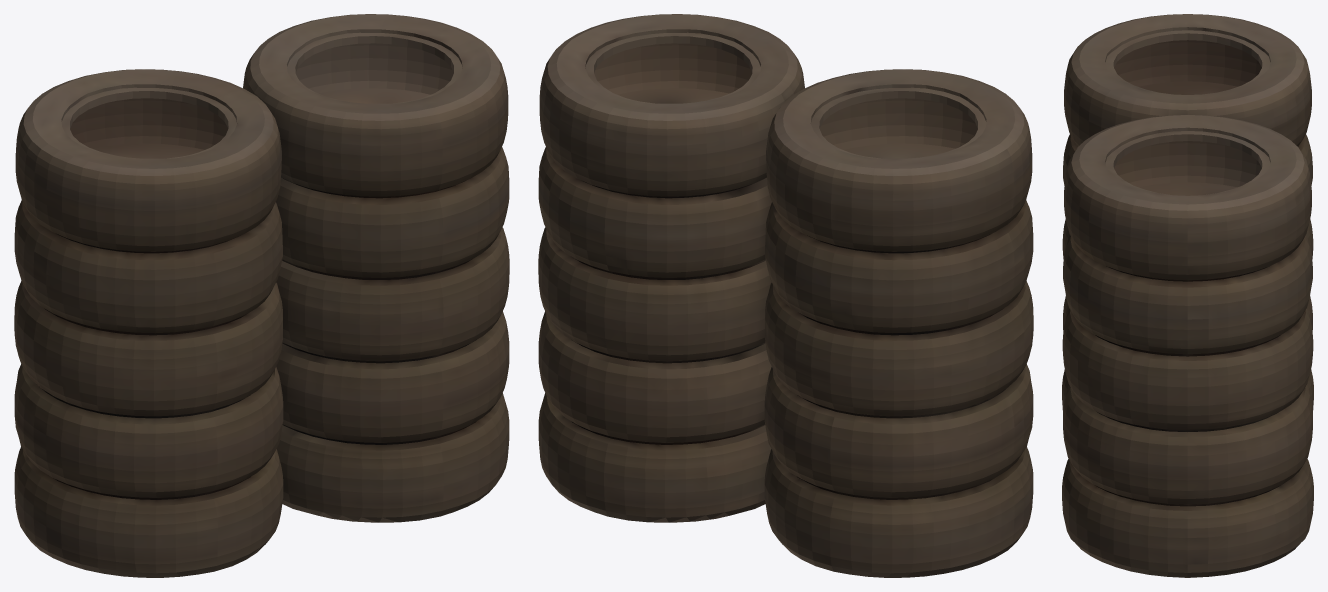
The picture shows the model from 3 angles, left to right: view 1: azimuth 30°, elevation 25°; view 2: azimuth 150°, elevation 25°; view 3: azimuth 270°, elevation 25°; orthographic projection. The views are drawn at different scales.
Parts seen in each view (by area): view 1: texture_pbr_v128; view 2: texture_pbr_v128; view 3: texture_pbr_v128.
Part boxes in pixels (bbox=[...]): texture_pbr_v128: bbox=[14, 14, 509, 577]; texture_pbr_v128: bbox=[538, 14, 1033, 577]; texture_pbr_v128: bbox=[1062, 14, 1313, 577].
Bounding box in the file's own units: 0.9347 × 0.7983 × 0.489.
1 material, 1 textured.
